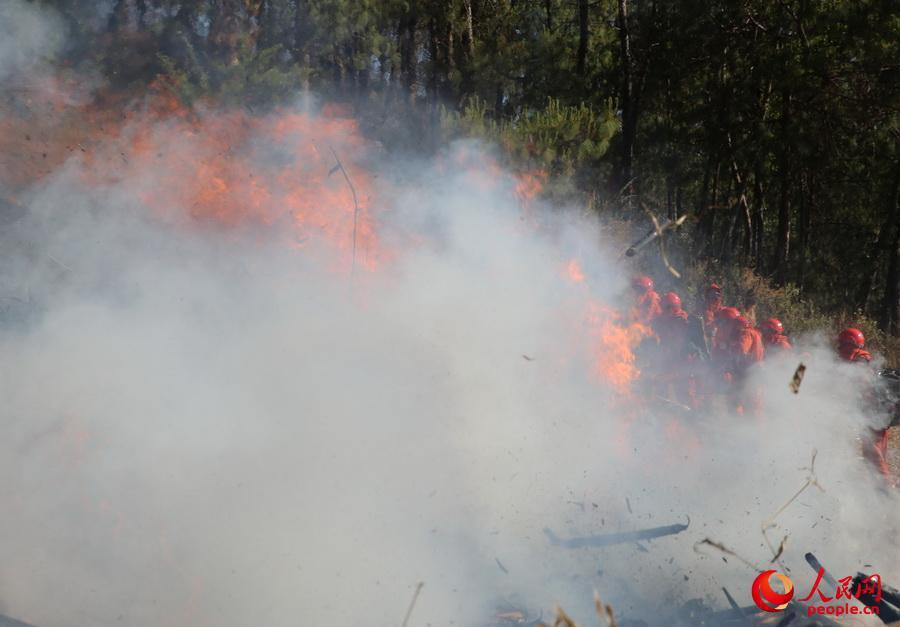fire: (7, 63, 379, 262), (570, 269, 641, 388)
